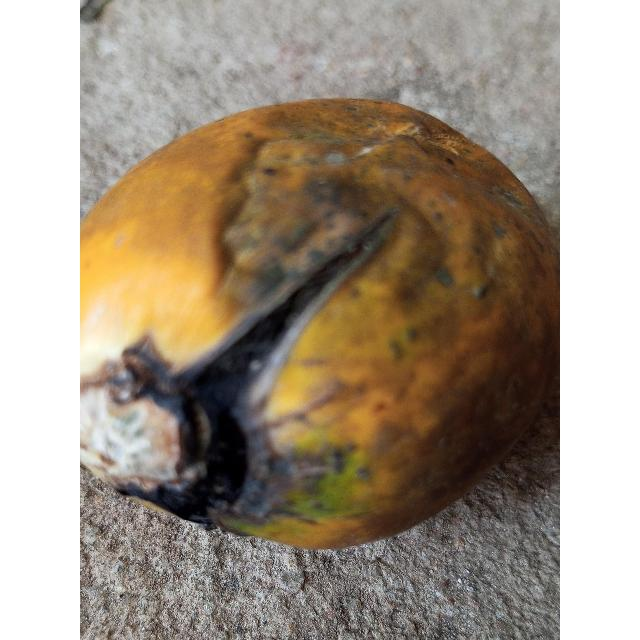damaged: (80, 100, 560, 548)
